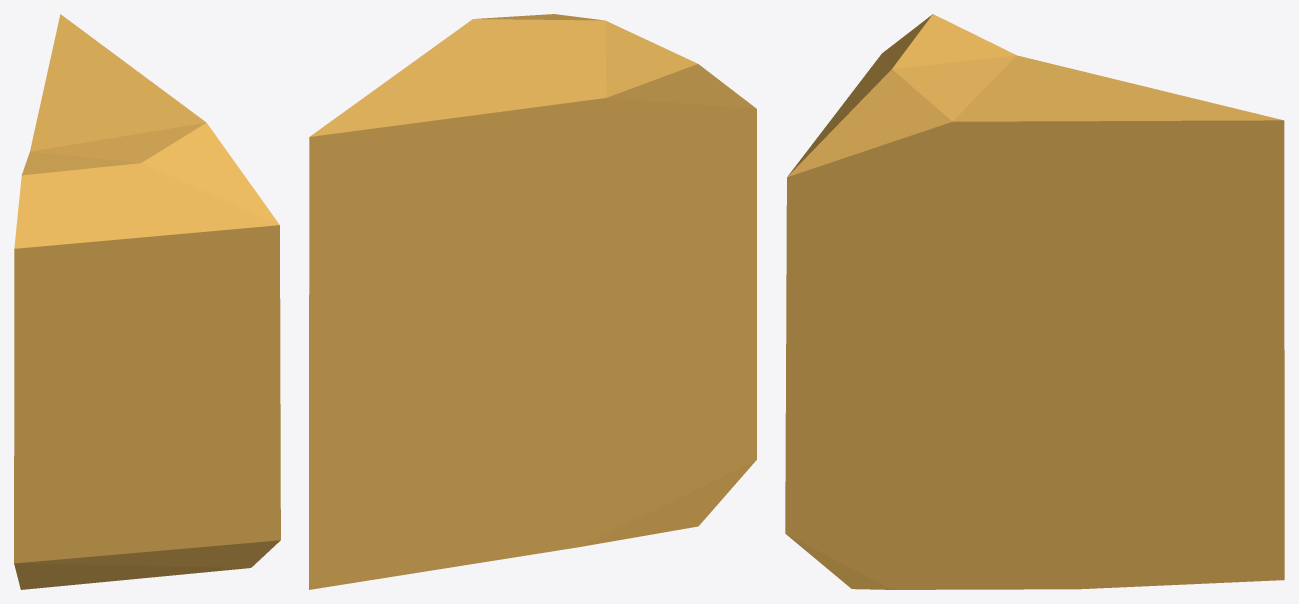
Rendered from SFI_Cheese_001.fbx.
The picture shows the model from 3 angles, left to right: view 1: azimuth 30°, elevation 25°; view 2: azimuth 150°, elevation 25°; view 3: azimuth 270°, elevation 25°; orthographic projection. The views are drawn at different scales.
Visible parts, largest first — view 1: SFI_Cheese_001; view 2: SFI_Cheese_001; view 3: SFI_Cheese_001.
Part boxes in pixels (x1,y1,x2,y2): SFI_Cheese_001: [14, 14, 280, 589]; SFI_Cheese_001: [309, 14, 756, 589]; SFI_Cheese_001: [785, 14, 1284, 589].
Size of the model in its own units: 10.98 by 19.43 by 18.7.
